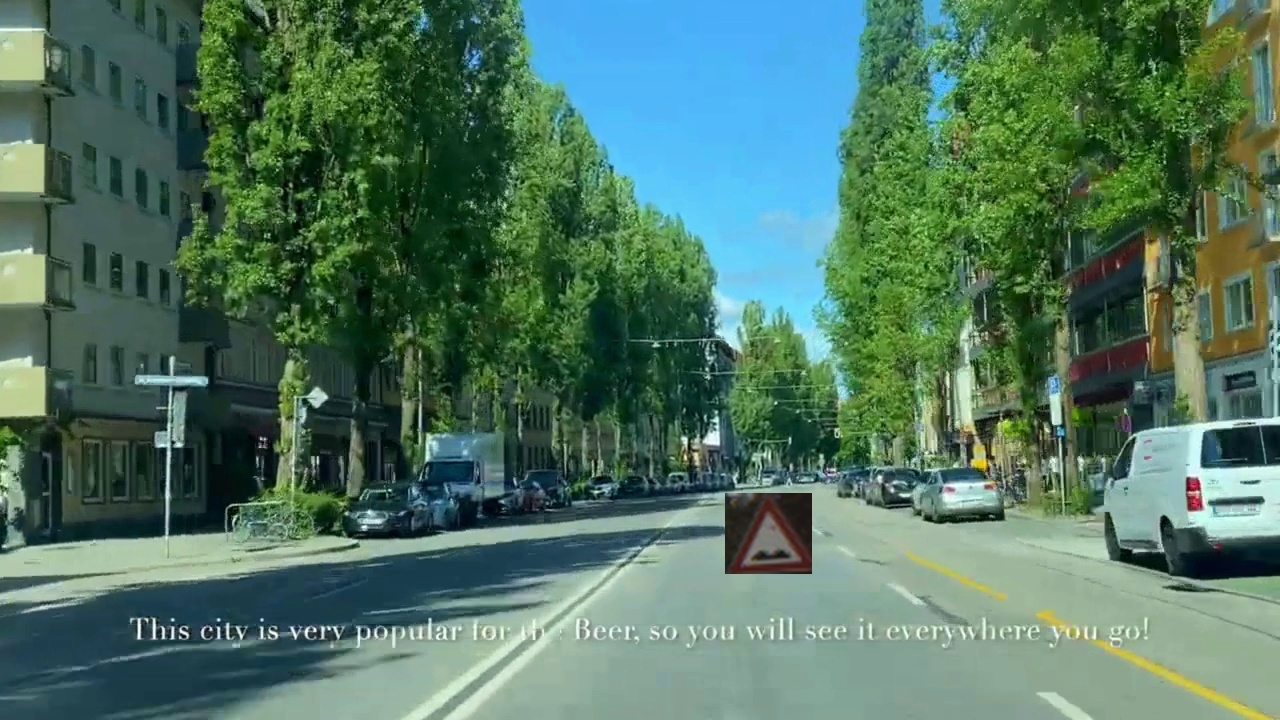Bumpy road: (725, 493, 812, 574)
